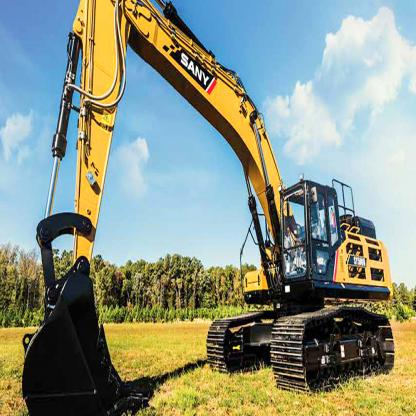excavator: (25, 1, 401, 415)
